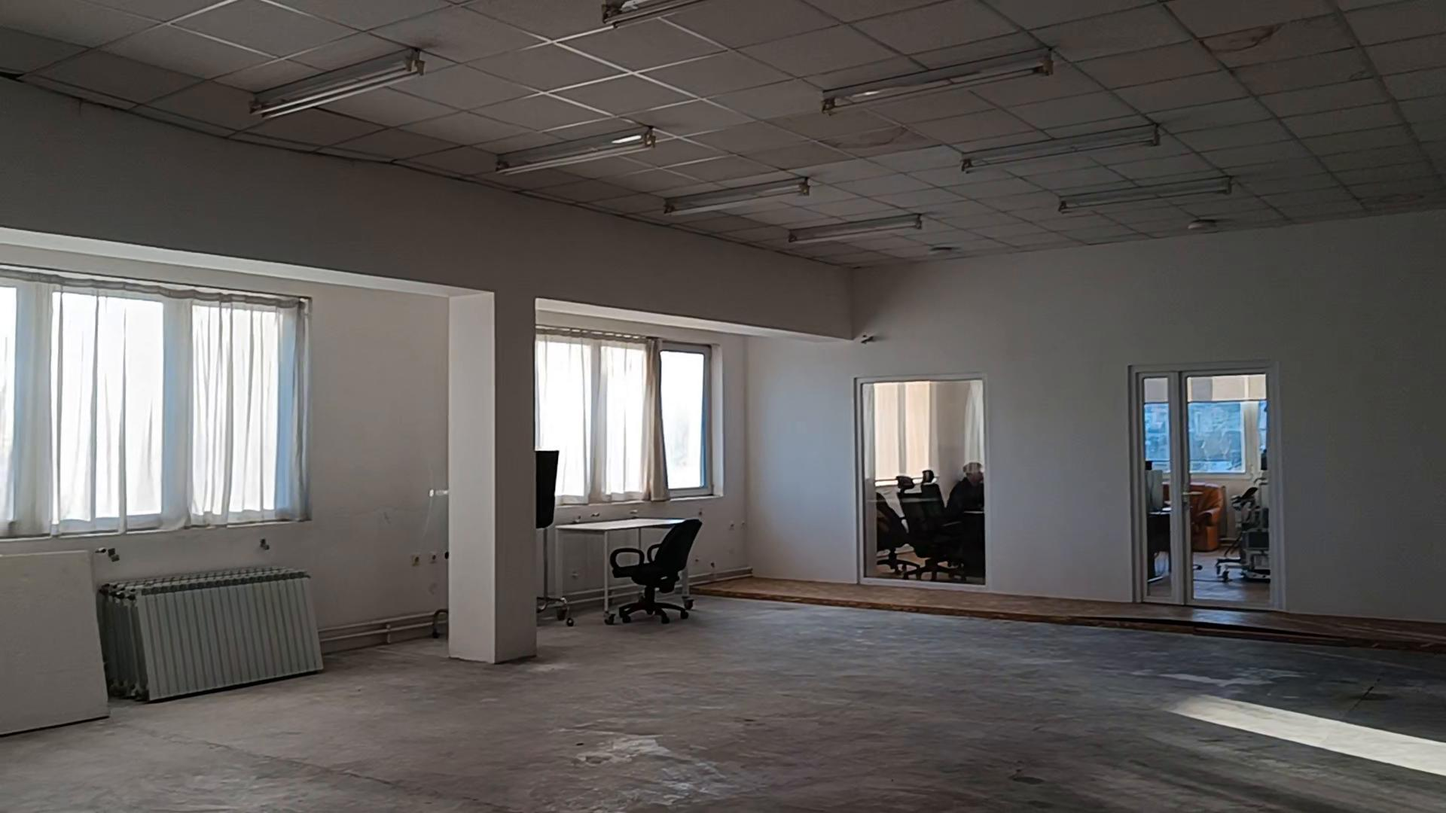ceiling: (0, 0, 1445, 264)
floor: (0, 598, 1445, 812)
wall: (0, 104, 1443, 624), (447, 293, 537, 664)
